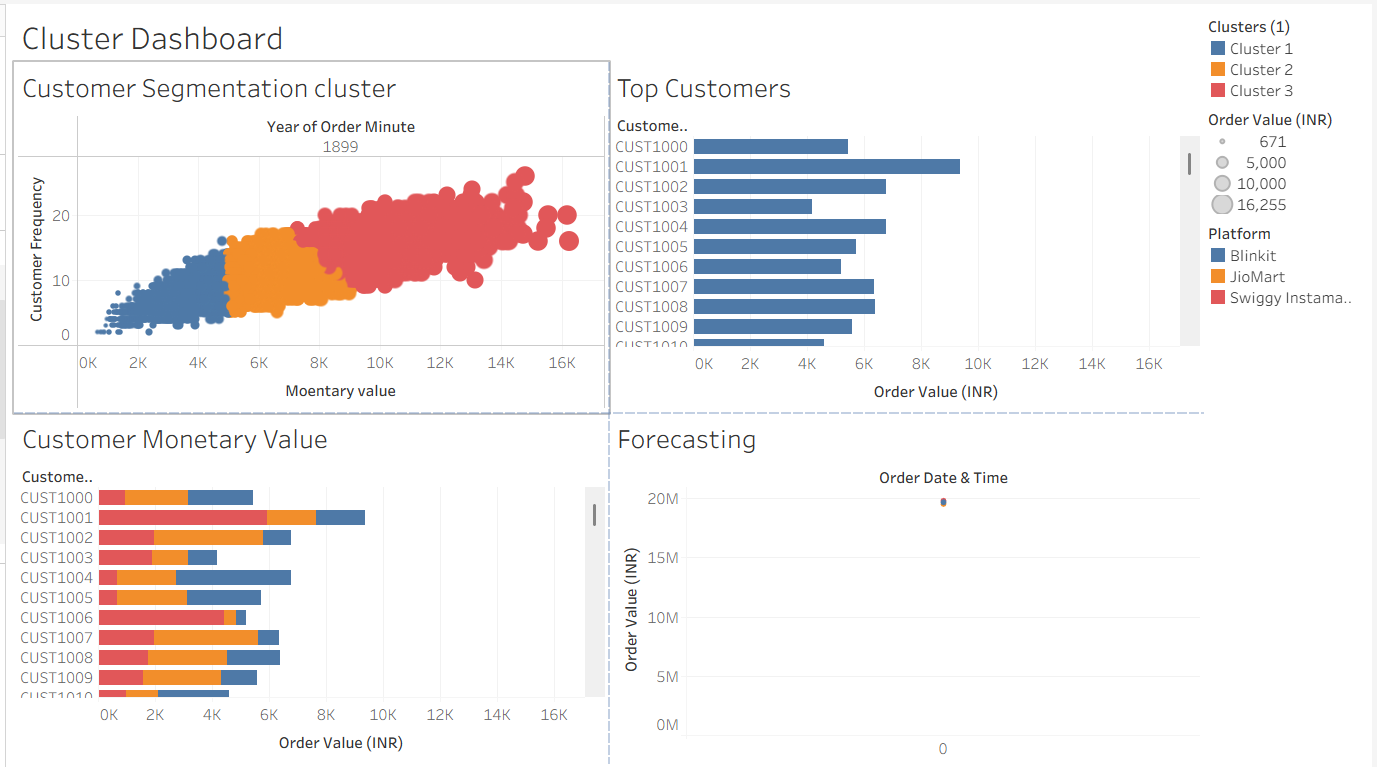

The dashboard page shown, as its layout file describes it:
{"tool":"tableau","page":{"name":"Dashboard 2","canvas":[1366,768],"ordinal":0},"visuals":[{"type":"title","box":[8,8,1190,50]},{"type":"legend","title":"Customer Segmentation cluster ","param":"[federated.0nx2vrf0tqeiha18z9zha0fyvee3].[none:AdhocCluster:2:ok]","box":[1198,8,160,93]},{"type":"worksheet","title":"Customer Segmentation cluster ","mark":"Circle","rows":["Calculation_2202924043153411"],"cols":["Calculation_2202924045041670","Calculation_2202924043313156"],"box":[8,58,595,351]},{"type":"worksheet","title":"Top Customers","mark":"Automatic","rows":["Customer ID"],"cols":["Order Value (INR)"],"box":[603,58,595,351]},{"type":"legend","title":"Customer Segmentation cluster ","param":"[federated.0nx2vrf0tqeiha18z9zha0fyvee3].[sum:Order Value (INR):qk]","box":[1198,101,160,114]},{"type":"legend","title":"Customer Monetary Value","param":"[federated.0nx2vrf0tqeiha18z9zha0fyvee3].[none:Platform:nk]","box":[1198,215,160,93]},{"type":"worksheet","title":"Customer Monetary Value","mark":"Automatic","rows":["Customer ID"],"cols":["Order Value (INR)"],"box":[8,409,595,351]},{"type":"worksheet","title":"Forecasting","mark":"Automatic","rows":["Order Value (INR)"],"cols":["Order Date & Time"],"box":[603,409,595,351]}]}

Visuals, with their boxes in screenshot pixels (x1, y1, x2, y2), scaled from the page's 1366x768 canvas onto the 1377x767 screenshot:
title: bbox(8, 8, 1208, 58)
"Customer Segmentation cluster " legend: bbox(1208, 8, 1369, 101)
"Customer Segmentation cluster " worksheet (Circle marks): bbox(8, 58, 608, 408)
"Top Customers" worksheet: bbox(608, 58, 1208, 408)
"Customer Segmentation cluster " legend: bbox(1208, 101, 1369, 215)
"Customer Monetary Value" legend: bbox(1208, 215, 1369, 308)
"Customer Monetary Value" worksheet: bbox(8, 408, 608, 759)
"Forecasting" worksheet: bbox(608, 408, 1208, 759)
